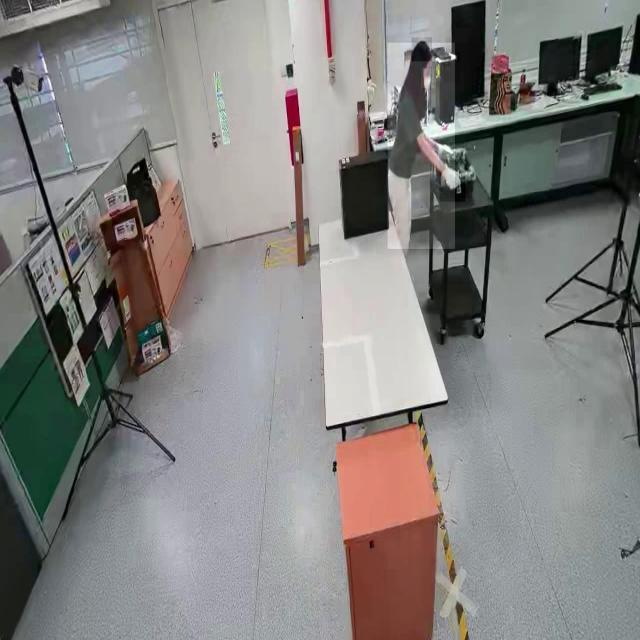face_mask: (420, 68, 434, 89)
hand_glove: (439, 159, 465, 203)
head_nohelmet: (411, 38, 432, 62)
person: (387, 42, 455, 250)
